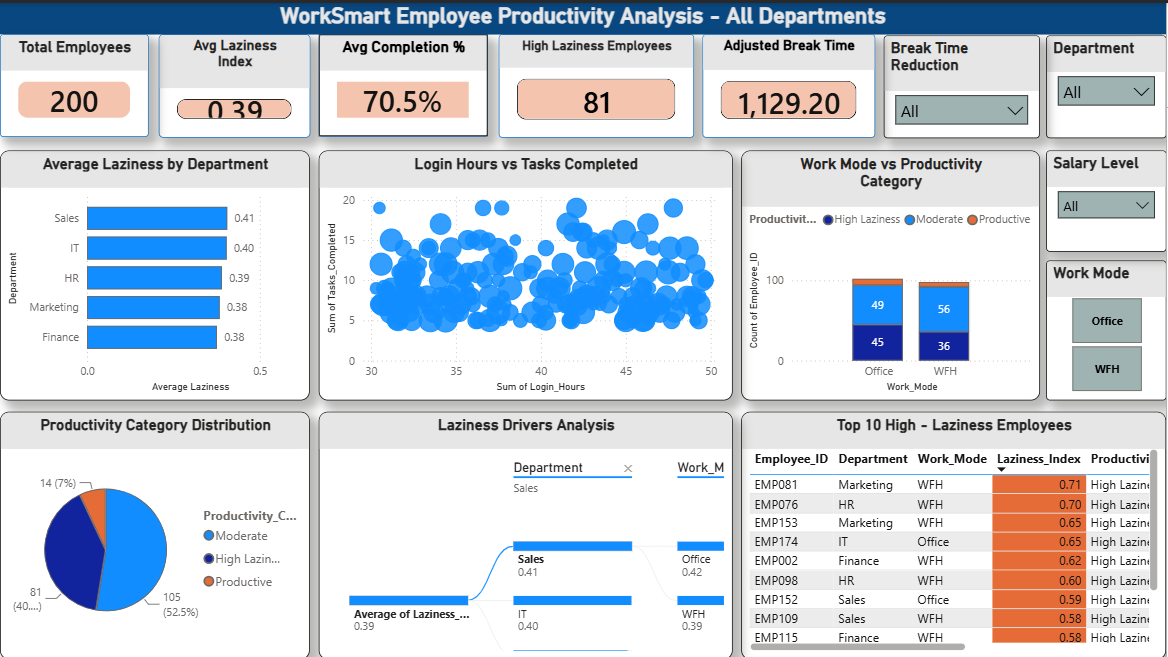

This screenshot's page, from the dashboard's own definition file:
{"tool":"powerbi","page":{"name":"Dashboard","canvas":[1280,720],"ordinal":0},"visuals":[{"type":"cardVisual","title":"Avg Laziness Index","fields":{"Data":["Employee_Activity.Average Laziness"]},"box":[174.3,34.3,166,113.9],"z":0},{"type":"cardVisual","title":"Avg Completion %","fields":{"Data":["Employee_Activity.Average Completion %"]},"box":[349.9,34.3,185.2,112.5],"z":1000},{"type":"cardVisual","title":"High Laziness Employees","fields":{"Data":["Employee_Activity.High Laziness"]},"box":[547.5,34.3,214.1,113.9],"z":2000},{"type":"clusteredBarChart","fields":{"Category":["Employee_Activity.Department"],"Y":["Employee_Activity.Average Laziness"]},"box":[0,161.9,340.3,274.4],"z":3000},{"type":"columnChart","title":"Work Mode vs Productivity Category","fields":{"Category":["Employee_Activity.Work_Mode"],"Series":["Employee_Activity.Productivity_Category"],"Y":["CountNonNull(Employee_Activity.Employee_ID)"]},"box":[813.7,161.9,328,274.4],"z":4000},{"type":"pieChart","title":"Productivity Category Distribution","fields":{"Category":["Employee_Activity.Productivity_Category"],"Y":["CountNonNull(Employee_Activity.Employee_ID)"]},"box":[0,448.7,340.3,271.7],"z":5000},{"type":"scatterChart","title":"Login Hours vs Tasks Completed","fields":{"X":["Sum(Employee_Activity.Login_Hours)"],"Y":["Sum(Employee_Activity.Tasks_Completed)"],"Size":["Sum(Employee_Activity.Social_Media_Usage_Hours)"],"Category":["Employee_Activity.Employee_ID"]},"box":[349.9,161.9,454.2,274.4],"z":6000},{"type":"slicer","title":"Department","fields":{"Values":["Employee_Activity.Department"]},"box":[1148.5,35.7,131.7,112.5],"z":7000},{"type":"slicer","title":"Work Mode","fields":{"Values":["Employee_Activity.Work_Mode"]},"box":[1148.5,282.7,131.7,153.7],"z":8000},{"type":"slicer","title":"Salary Level","fields":{"Values":["Employee_Activity.Salary_Level"]},"box":[1148.5,161.9,131.7,111.1],"z":9000},{"type":"textbox","box":[11,9.6,735.5,23.3],"z":10000},{"type":"textbox","box":[0,0,1280.3,34.3],"z":11000},{"type":"tableEx","title":"Top 10 High - Laziness Employees","fields":{"Values":["Employee_Activity.Employee_ID","Employee_Activity.Department","Employee_Activity.Work_Mode","Employee_Activity.Laziness_Index","Employee_Activity.Productivity_Category","Employee_Activity.Social_Media_Usage_Hours","Employee_Activity.Deadline_Missed"]},"box":[813.7,448.7,466.6,271.7],"z":12000},{"type":"decompositionTreeVisual","title":"Laziness Drivers Analysis","fields":{"Analyze":["Avg(Employee_Activity.Laziness_Index)"],"ExplainBy":["Employee_Activity.Department","Employee_Activity.Work_Mode","Employee_Activity.Salary_Level","Employee_Activity.Deadline_Missed","Employee_Activity.Performance_Rating","Employee_Activity.Social_Media_Usage_Hours","Employee_Activity.Meetings_Attended"]},"box":[349.9,448.7,454.2,271.7],"z":13000},{"type":"slicer","title":"Break Time Reduction","fields":{"Values":["Break Time Reduction.Break Time Reduction"]},"box":[970.2,35.7,171.5,112.5],"z":14000},{"type":"cardVisual","title":"Adjusted Break Time","fields":{"Data":["Break Time Reduction.Adjusted Break Time"]},"box":[771.2,34.3,189.4,113.9],"z":15000},{"type":"cardVisual","title":"Total Employees","fields":{"Data":["Employee_Activity.Total Employees"]},"box":[0,34.3,163.3,112.5],"z":16000}]}

Visuals, with their boxes in screenshot pixels (x1, y1, x2, y2), scaled from the page's 1280x720 canvas onto the 1168x657 screenshot:
"Avg Laziness Index" cardVisual: bbox=(159, 31, 311, 135)
"Avg Completion %" cardVisual: bbox=(319, 31, 488, 134)
"High Laziness Employees" cardVisual: bbox=(500, 31, 695, 135)
clusteredBarChart - Employee_Activity.Department x Employee_Activity.Average Laziness: bbox=(0, 148, 311, 398)
"Work Mode vs Productivity Category" columnChart: bbox=(743, 148, 1042, 398)
"Productivity Category Distribution" pieChart: bbox=(0, 409, 311, 656)
"Login Hours vs Tasks Completed" scatterChart: bbox=(319, 148, 734, 398)
"Department" slicer: bbox=(1048, 33, 1167, 135)
"Work Mode" slicer: bbox=(1048, 258, 1167, 398)
"Salary Level" slicer: bbox=(1048, 148, 1167, 249)
textbox: bbox=(10, 9, 681, 30)
textbox: bbox=(0, 0, 1167, 31)
"Top 10 High - Laziness Employees" tableEx: bbox=(743, 409, 1167, 656)
"Laziness Drivers Analysis" decompositionTreeVisual: bbox=(319, 409, 734, 656)
"Break Time Reduction" slicer: bbox=(885, 33, 1042, 135)
"Adjusted Break Time" cardVisual: bbox=(704, 31, 877, 135)
"Total Employees" cardVisual: bbox=(0, 31, 149, 134)
